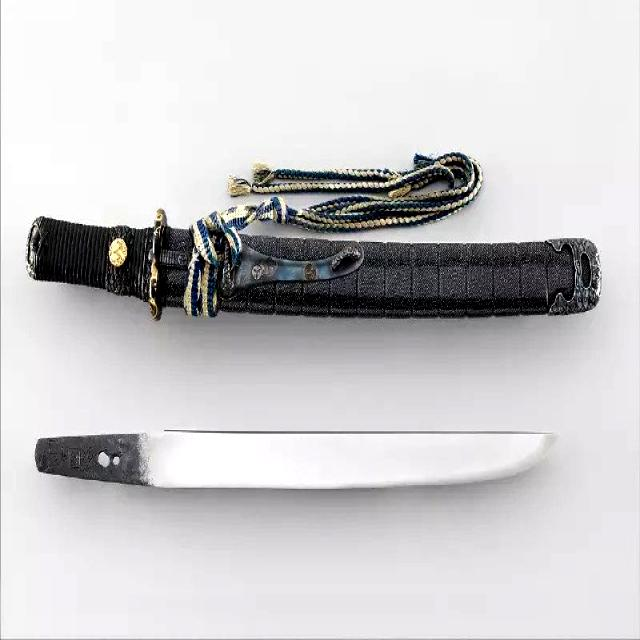short sword: (14, 137, 619, 346), (28, 398, 586, 528)
